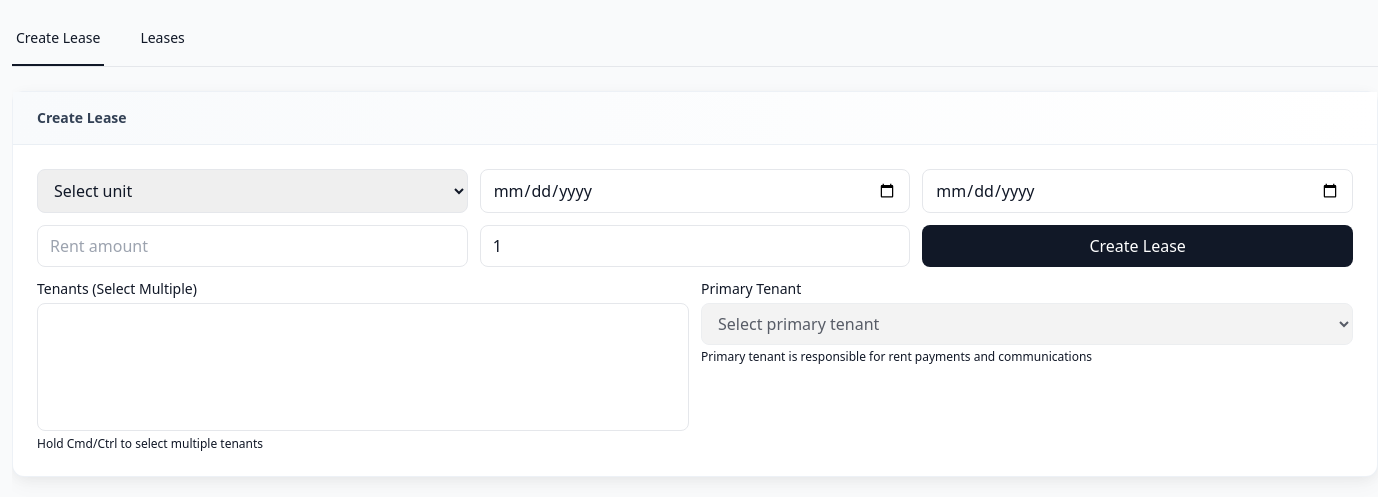
Test: LeasesPage › should switch to leases tab
Click the button "Leases". click: click(163, 39)
box: [136, 12, 189, 66]
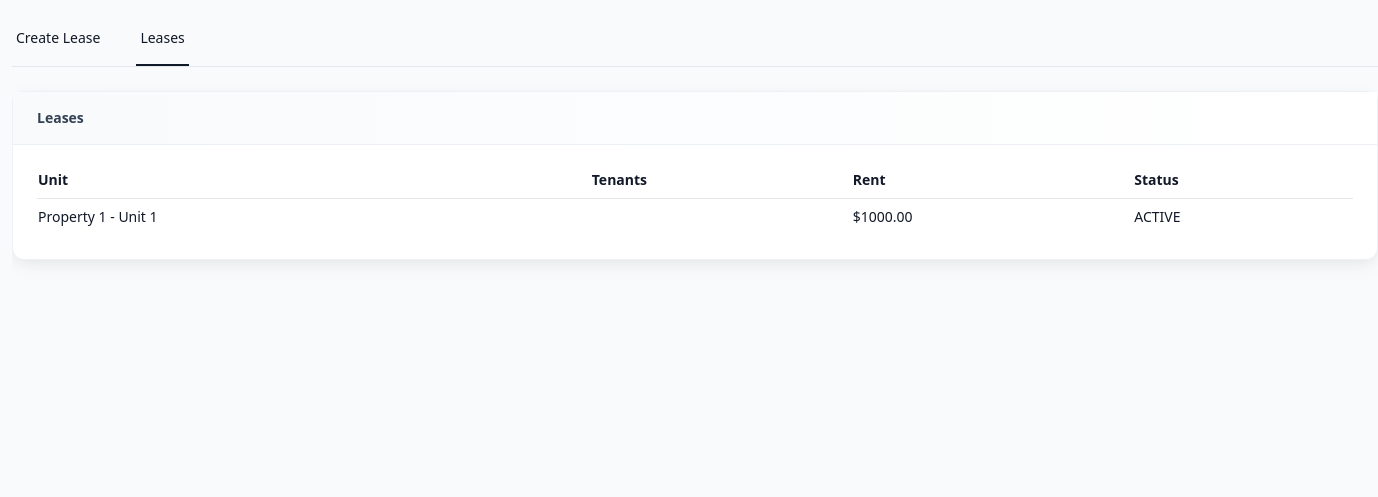
Check: the link "Property 1 - Unit 1" is shown, box [38, 207, 158, 226]
